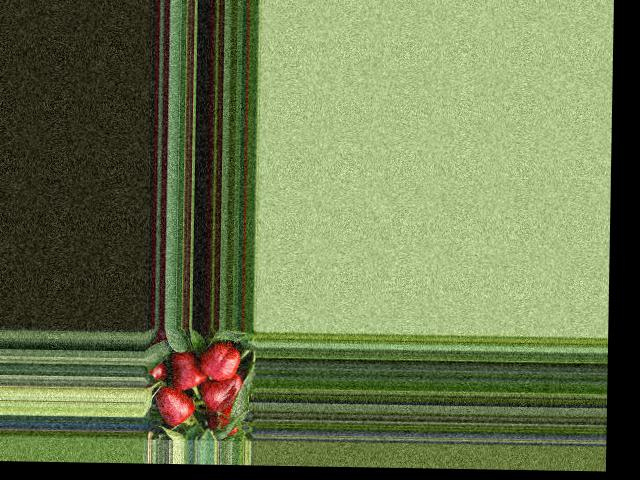bell_pepper: (190, 342, 244, 381)
